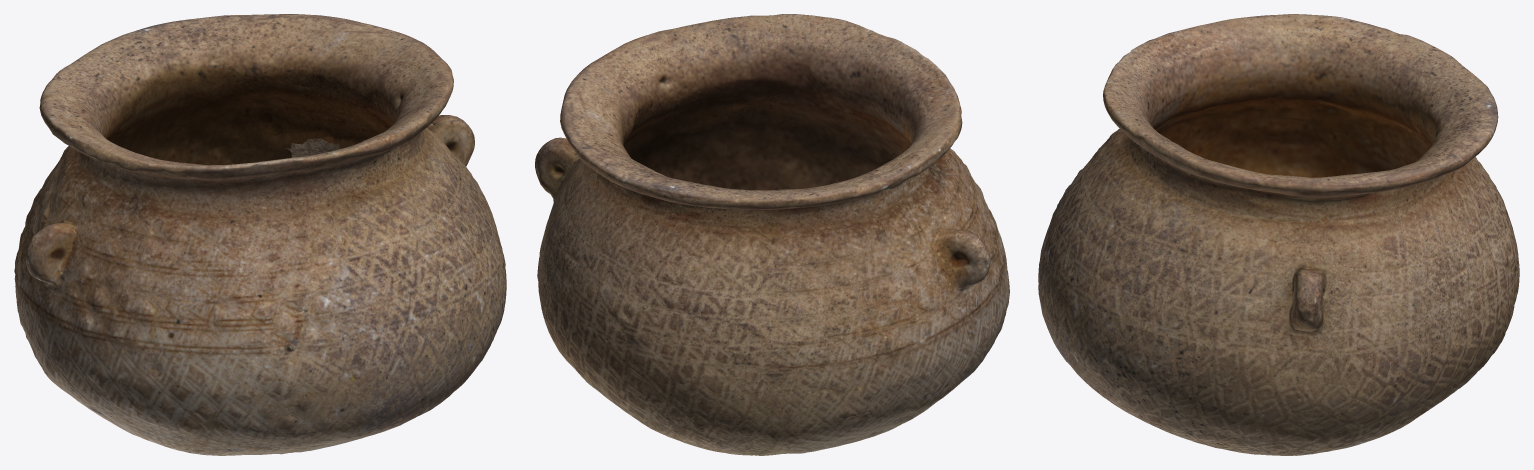
Rendered from 战国时代素胎方格纹双系陶罐.glb.
3 renders of one model, left to right at view 1: azimuth 30°, elevation 25°; view 2: azimuth 150°, elevation 25°; view 3: azimuth 270°, elevation 25°, orthographic. The views are drawn at different scales.
Visible parts, largest first — view 1: defaultobject; view 2: defaultobject; view 3: defaultobject.
Boxes of the visible parts, x1,y1,x2,y2 form: defaultobject: [14, 14, 506, 455]; defaultobject: [535, 14, 1009, 455]; defaultobject: [1038, 14, 1519, 455].
Bounding box in the file's own units: 236 × 172 × 222.
1 material, 1 textured.
